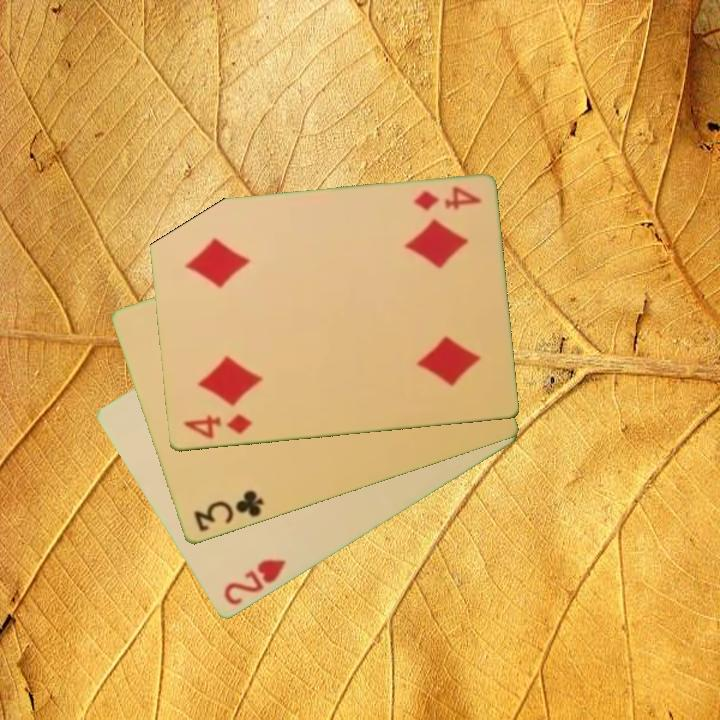2h: (220, 556, 289, 609)
3c: (190, 487, 267, 535)
4d: (179, 411, 255, 442), (410, 183, 484, 214)
